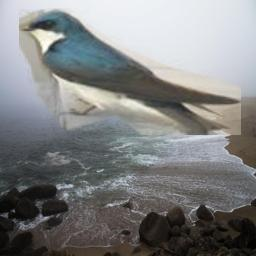Swallow: (19, 8, 241, 135)
